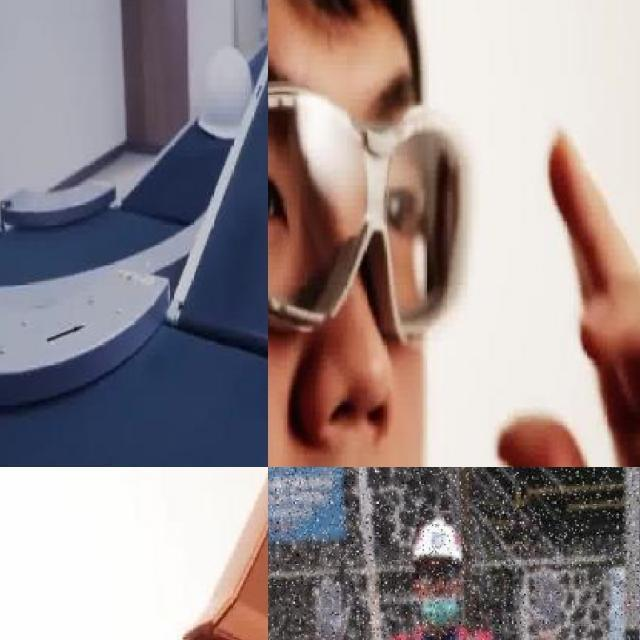apron: (522, 564, 564, 640), (312, 576, 349, 640)
